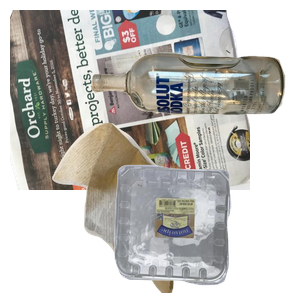glass: (88, 50, 300, 158)
paper: (10, 10, 250, 190)
plastic: (112, 162, 300, 300)
trash: (50, 120, 219, 300)
